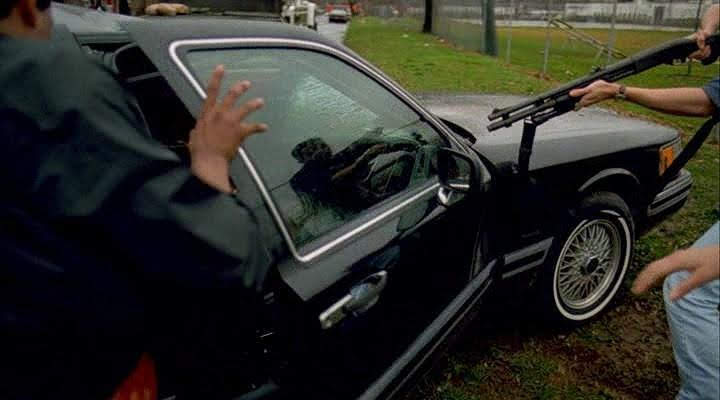gun: (463, 12, 712, 178)
